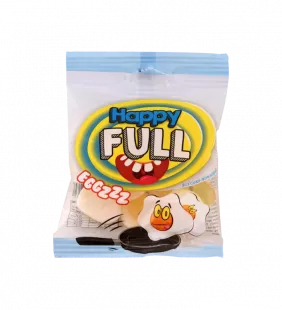HAPPY FULL: (44, 43, 236, 268)
